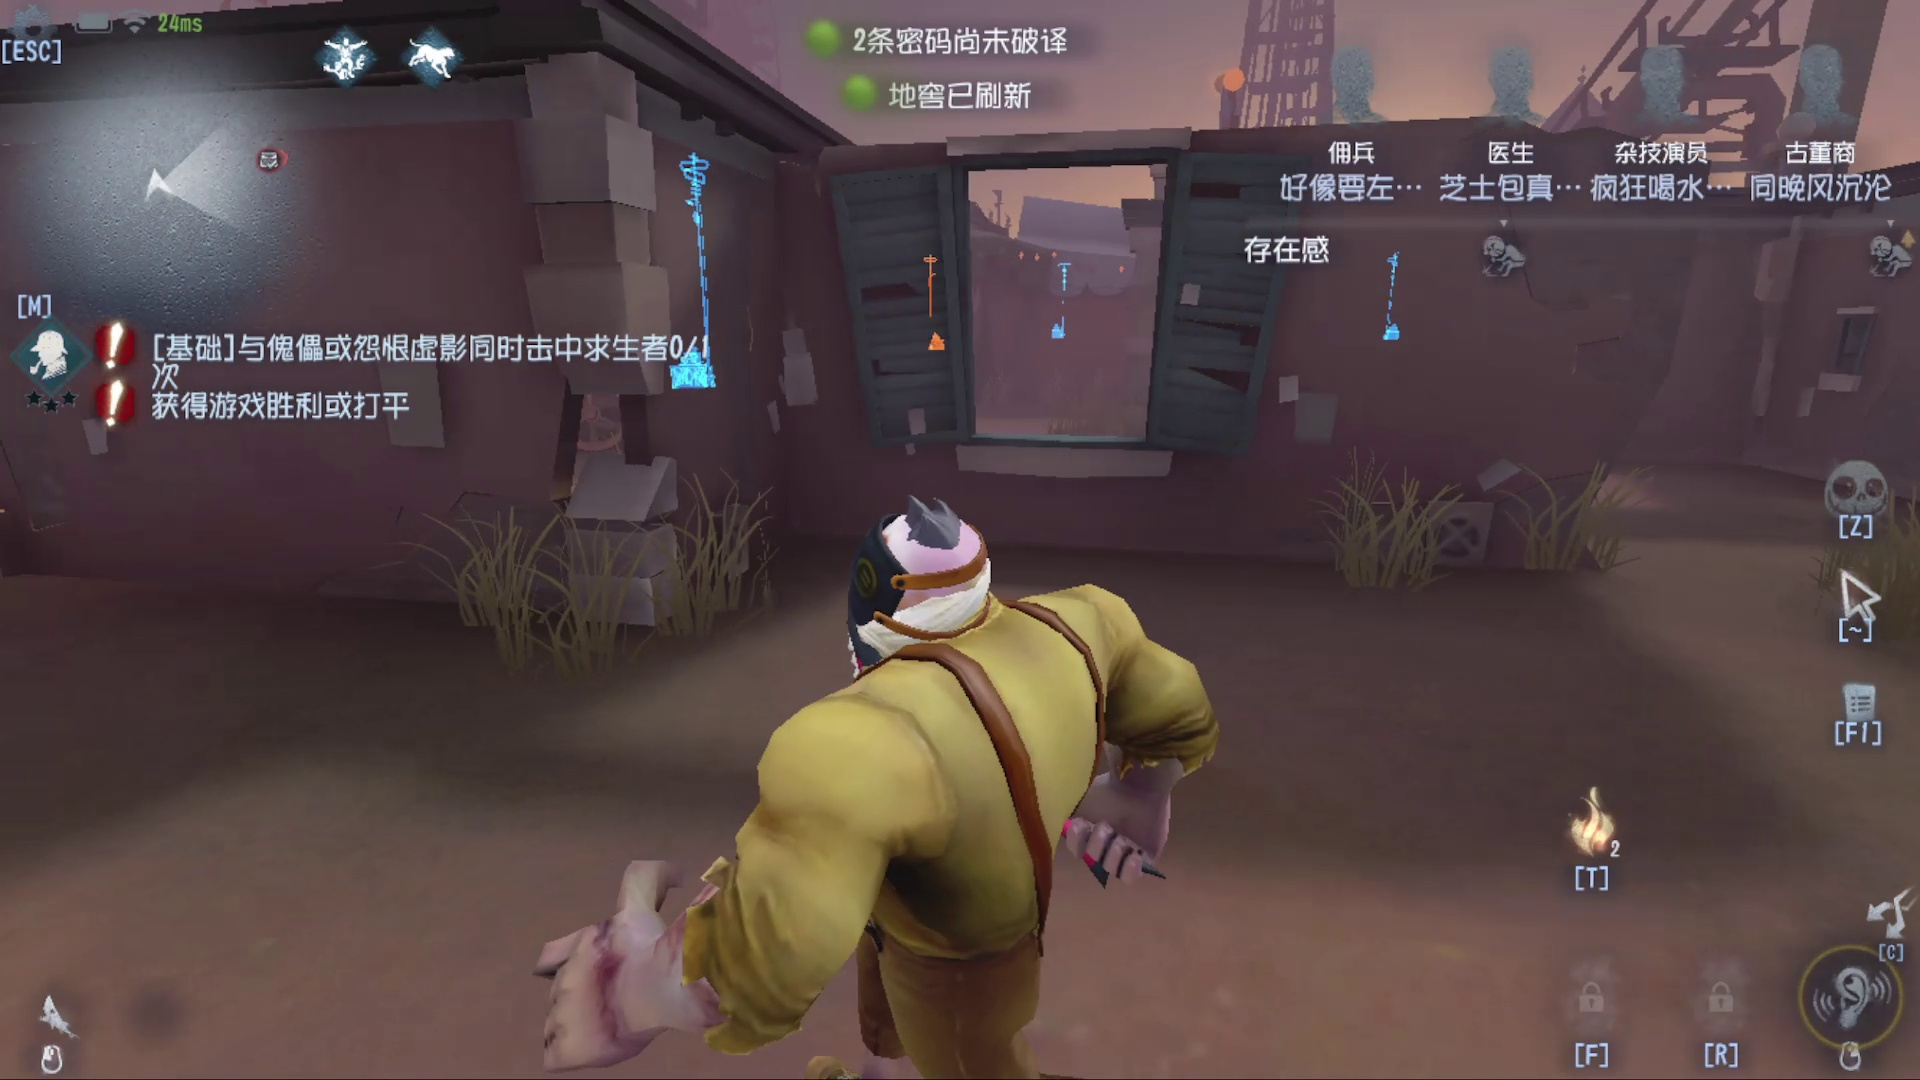密码机: (646, 135, 742, 422), (903, 231, 953, 368), (1362, 235, 1408, 361), (1038, 247, 1083, 353)
